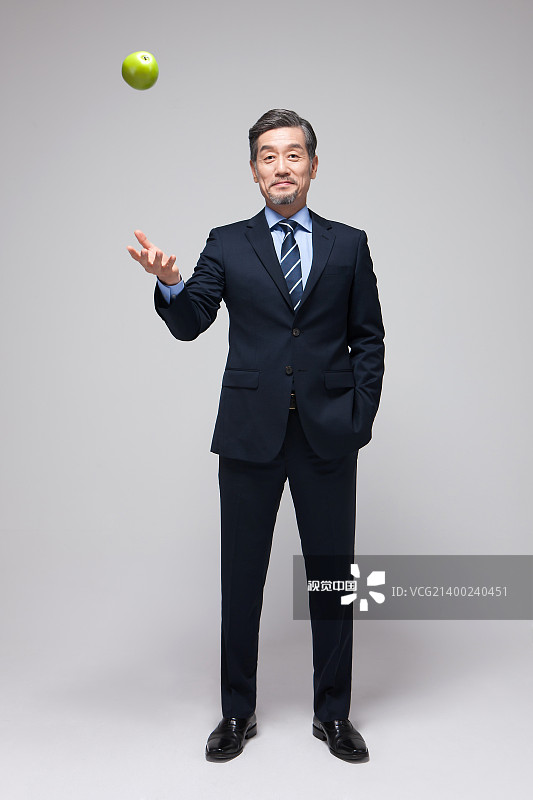no-phone: (115, 218, 197, 303)
